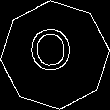O_S: (31, 28, 79, 82)
